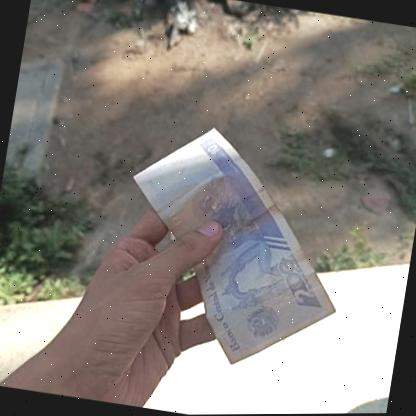ten-back-vef: (101, 115, 359, 381)
